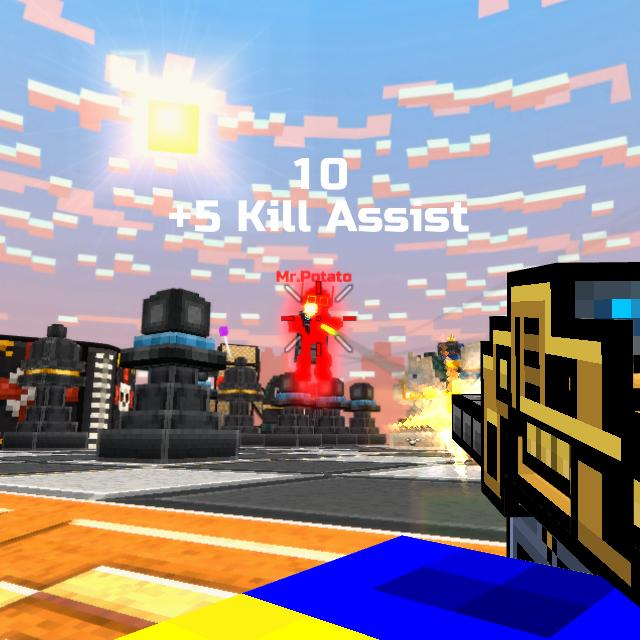Enemy: (288, 283, 344, 382)
